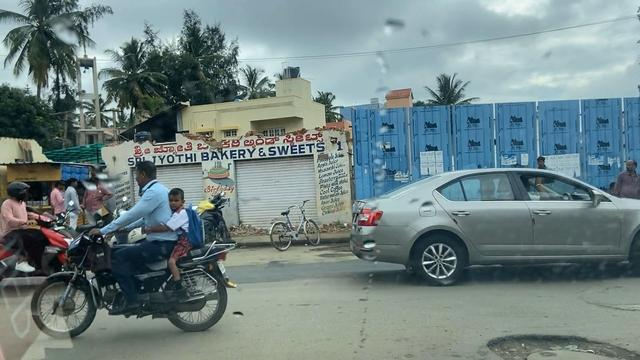LMV: (352, 167, 638, 289), (36, 167, 219, 327)
RoadDamages: (483, 332, 640, 360)
